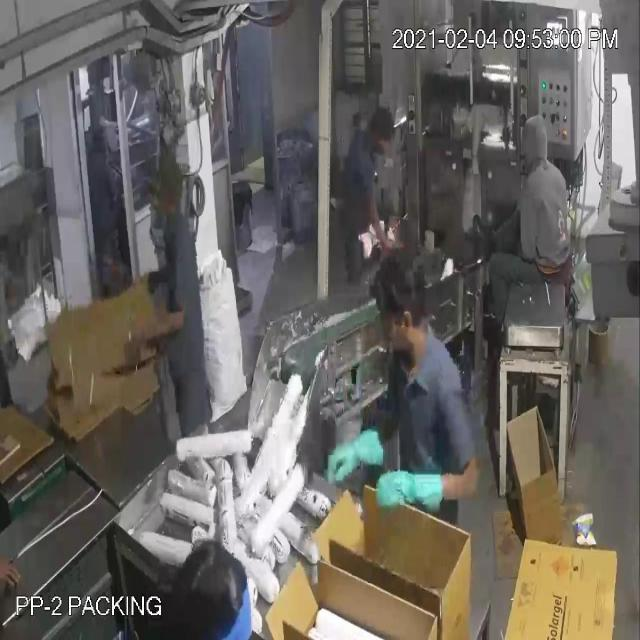No_Gloves: (47, 62, 406, 486)
